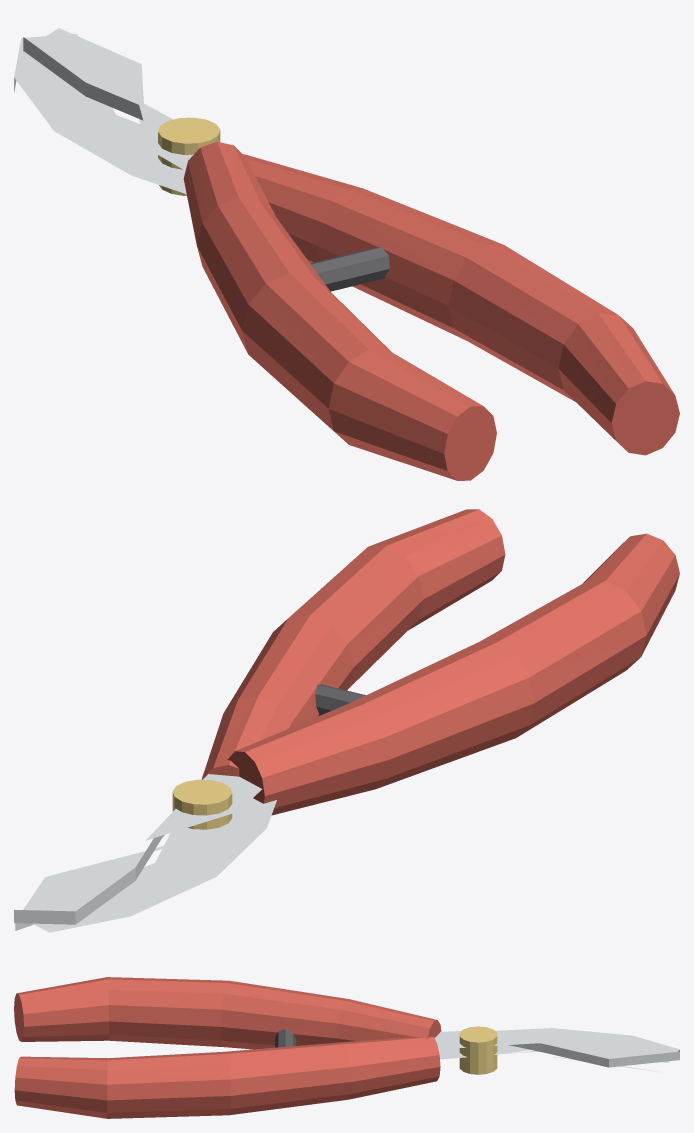
Rendered from secateurs.glb.
The picture shows the model from 3 angles, top to bottom: view 1: azimuth 30°, elevation 25°; view 2: azimuth 150°, elevation 25°; view 3: azimuth 270°, elevation 25°; orthographic projection. The views are drawn at different scales.
Parts seen in each view (by area): view 1: BodyGroup, BladePivot; view 2: BladePivot, BodyGroup; view 3: BodyGroup, BladePivot.
Boxes of the visible parts, x1=… form: BodyGroup: x1=14, y1=34, x2=679, y2=455; BladePivot: x1=23, y1=28, x2=496, y2=480; BladePivot: x1=14, y1=533, x2=679, y2=924; BodyGroup: x1=15, y1=509, x2=505, y2=932; BodyGroup: x1=14, y1=1026, x2=679, y2=1118; BladePivot: x1=14, y1=977, x2=679, y2=1067.
Bounding box in the file's own units: 0.0745 × 0.0265 × 0.2247.
